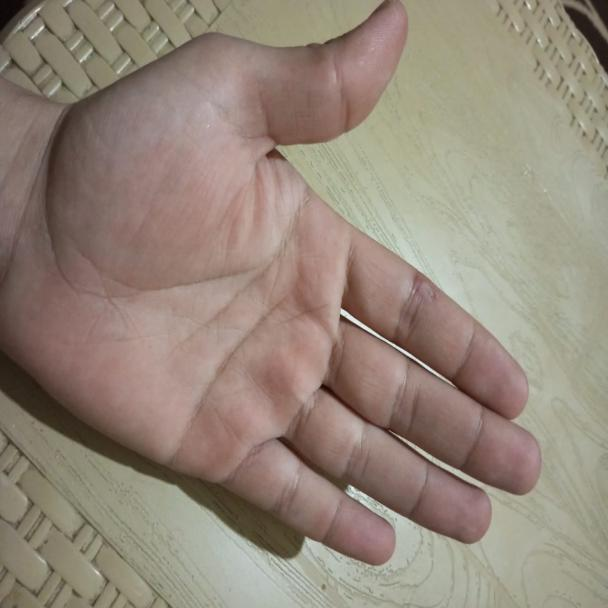five: (61, 7, 541, 564)
